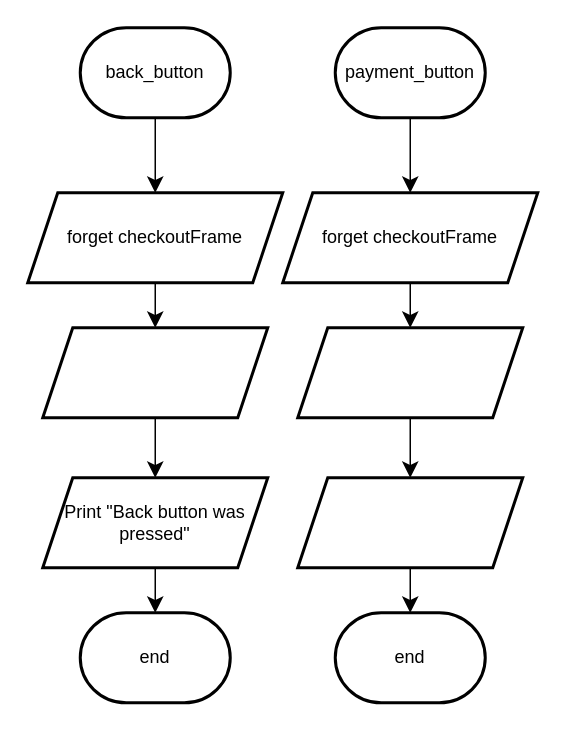
Some shapes in this 564 by 729 pixel diagram are drawn without their labels. The centre of each missing label's shape, as x and y in pixels:
place choiceFrame: pixel 410 372
place masterFrame: pixel 154 372
Print "Proceeding to payment section...": pixel 410 522
